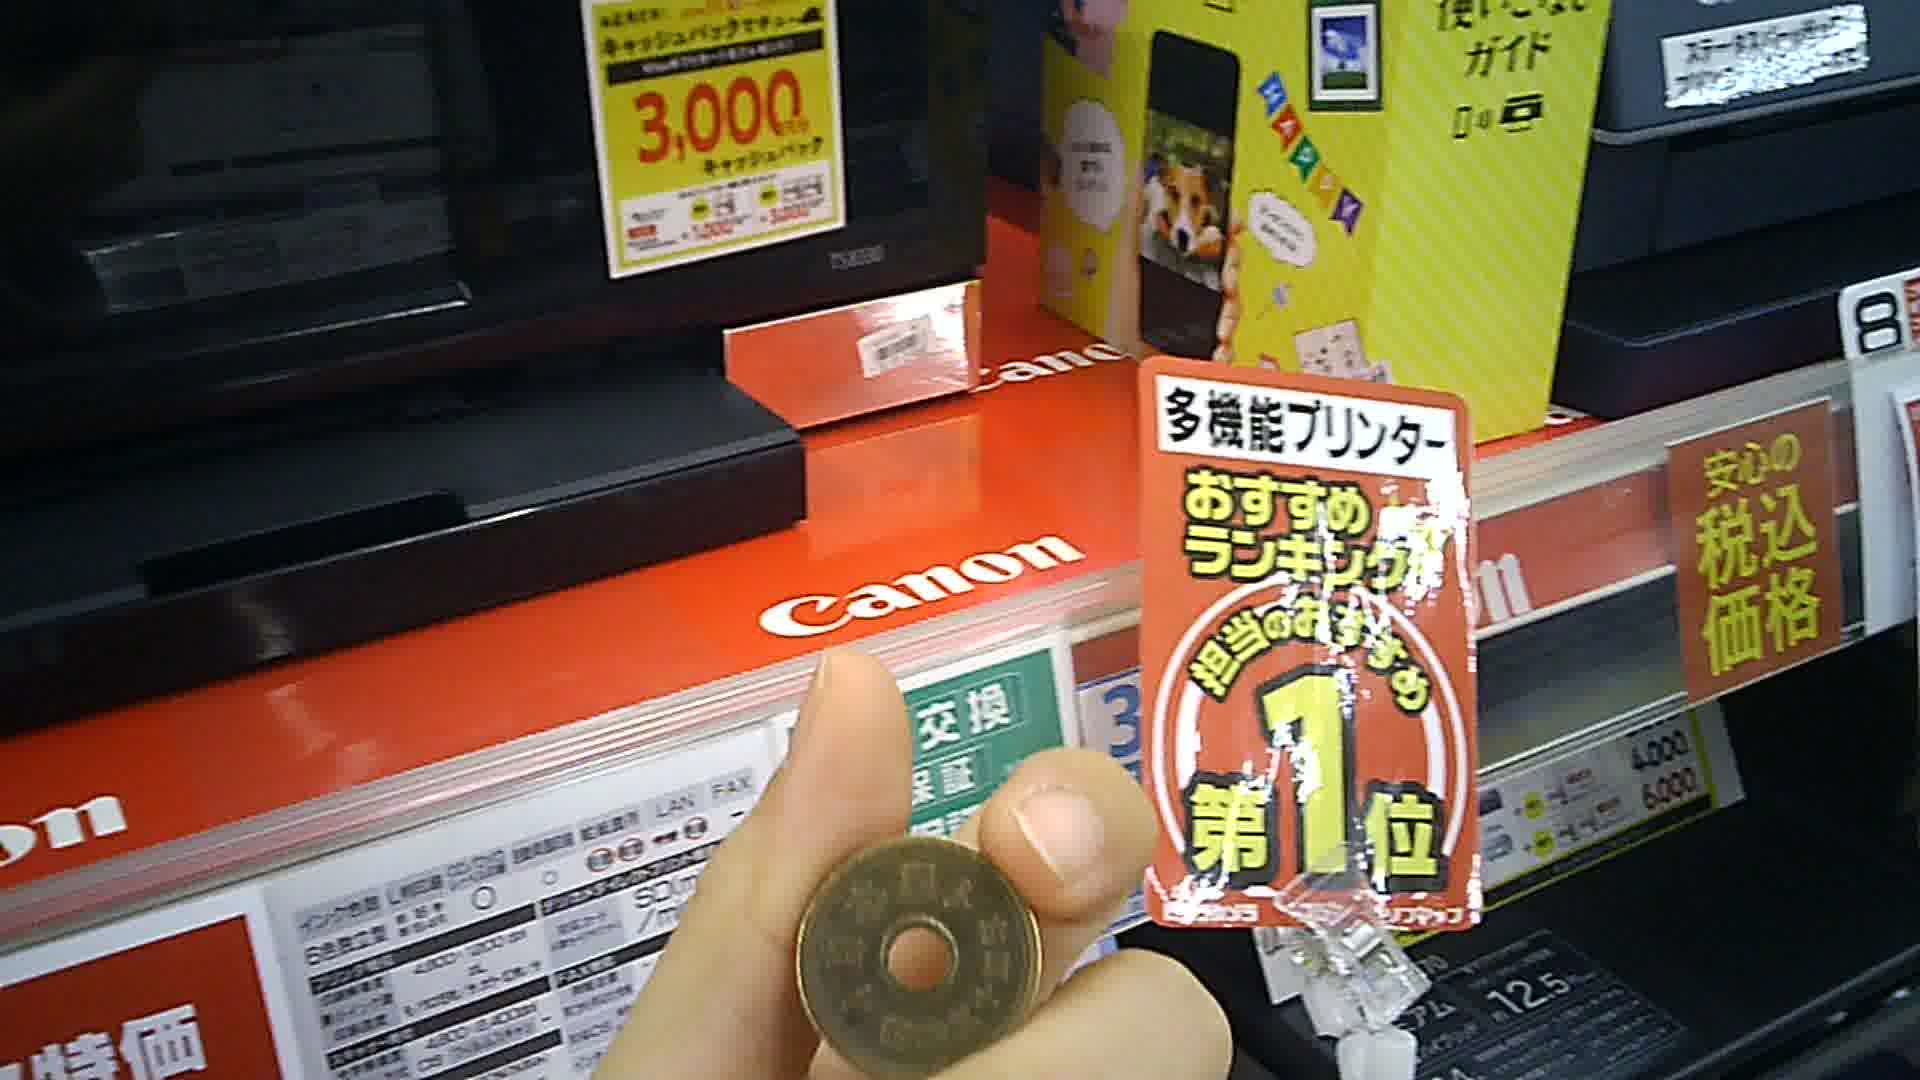5 Yen: (790, 833, 1040, 1079)
